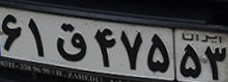character: (50, 16, 91, 65), (143, 27, 172, 79), (23, 12, 52, 62), (89, 23, 118, 71), (118, 25, 145, 74), (1, 10, 25, 57), (176, 42, 203, 81), (202, 42, 228, 82)
